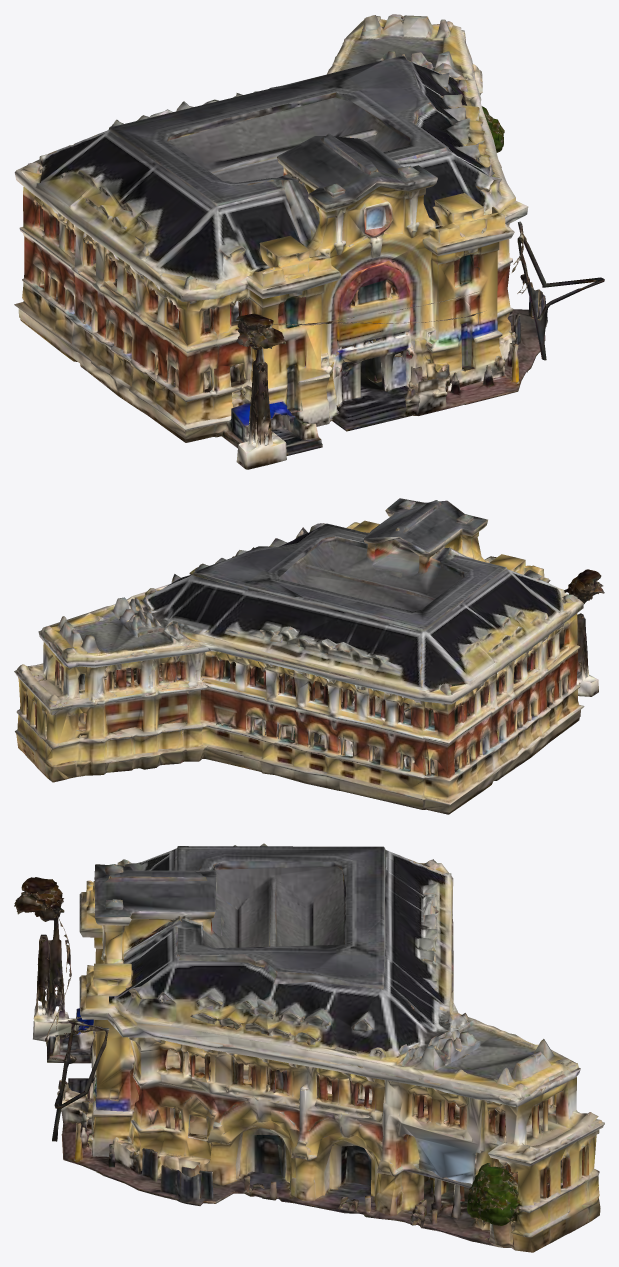
The model's file is buudien.glb.
3 views of the same model, one above another, from view 1: azimuth 30°, elevation 25°; view 2: azimuth 150°, elevation 25°; view 3: azimuth 270°, elevation 25° (orthographic). The views are drawn at different scales.
Parts seen in each view (by area): view 1: Mesh_0; view 2: Mesh_0; view 3: Mesh_0.
Boxes of the visible parts, left/top/right/bottom form: Mesh_0: left=14, top=14, right=604, bottom=469; Mesh_0: left=14, top=498, right=604, bottom=814; Mesh_0: left=14, top=843, right=604, bottom=1252.
Bounding box in the file's own units: 1.88 × 0.8165 × 1.9.
1 material, 1 textured.
